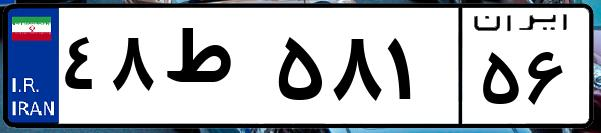1: (385, 28, 445, 110)
4: (57, 26, 110, 100)
5: (270, 28, 330, 110), (475, 38, 525, 113)
6: (525, 38, 570, 115)
8: (330, 28, 385, 110), (110, 28, 158, 98)
ط: (158, 20, 270, 120)
